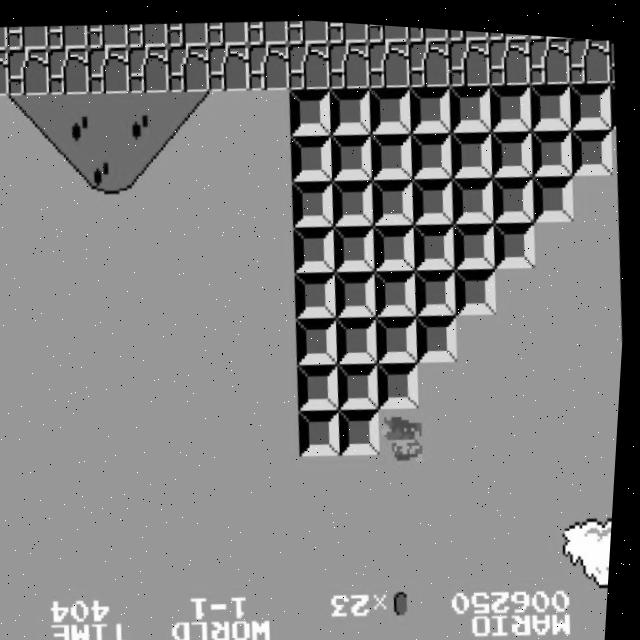11- little_mario: (384, 407, 433, 463)
17- undestructible_block: (445, 30, 493, 82), (205, 38, 253, 90), (405, 32, 453, 83), (325, 35, 373, 86), (285, 36, 333, 87), (165, 40, 213, 91), (85, 43, 133, 94), (45, 44, 93, 95), (365, 33, 412, 85), (125, 41, 172, 93), (5, 45, 52, 97), (525, 28, 572, 79), (486, 29, 533, 80), (245, 37, 292, 88), (565, 30, 612, 77), (206, 16, 250, 45), (5, 23, 49, 52), (165, 18, 210, 46), (45, 22, 90, 50), (245, 15, 289, 43), (125, 19, 169, 47), (86, 21, 130, 49), (285, 15, 329, 41), (325, 17, 369, 40), (365, 19, 409, 38), (405, 21, 449, 38), (0, 48, 12, 98), (446, 23, 489, 36), (606, 32, 617, 74), (486, 25, 529, 35), (0, 26, 9, 53)
9- hard_block: (447, 76, 495, 128), (378, 353, 426, 405), (327, 80, 375, 132), (567, 72, 615, 123), (487, 75, 535, 126), (376, 308, 424, 359), (340, 401, 388, 452), (298, 356, 346, 407), (527, 73, 574, 125), (489, 120, 536, 172), (453, 213, 500, 265), (409, 123, 456, 175), (297, 310, 344, 362), (374, 263, 422, 313), (300, 403, 348, 453), (569, 118, 616, 169), (529, 119, 576, 170), (493, 212, 540, 263), (491, 167, 538, 218), (449, 122, 496, 173), (417, 306, 464, 357), (415, 261, 462, 312), (413, 215, 460, 266), (407, 78, 454, 129), (373, 216, 420, 267), (369, 125, 416, 176), (367, 79, 414, 130), (339, 355, 386, 406), (337, 309, 384, 360), (335, 264, 382, 315), (333, 218, 380, 269), (331, 172, 378, 223), (329, 126, 376, 177), (293, 219, 340, 270), (289, 128, 336, 179), (287, 82, 334, 133), (531, 166, 578, 216), (455, 260, 502, 310), (451, 169, 498, 219), (411, 170, 458, 220), (371, 171, 418, 221), (295, 266, 342, 316), (291, 174, 338, 224), (608, 74, 619, 120)
